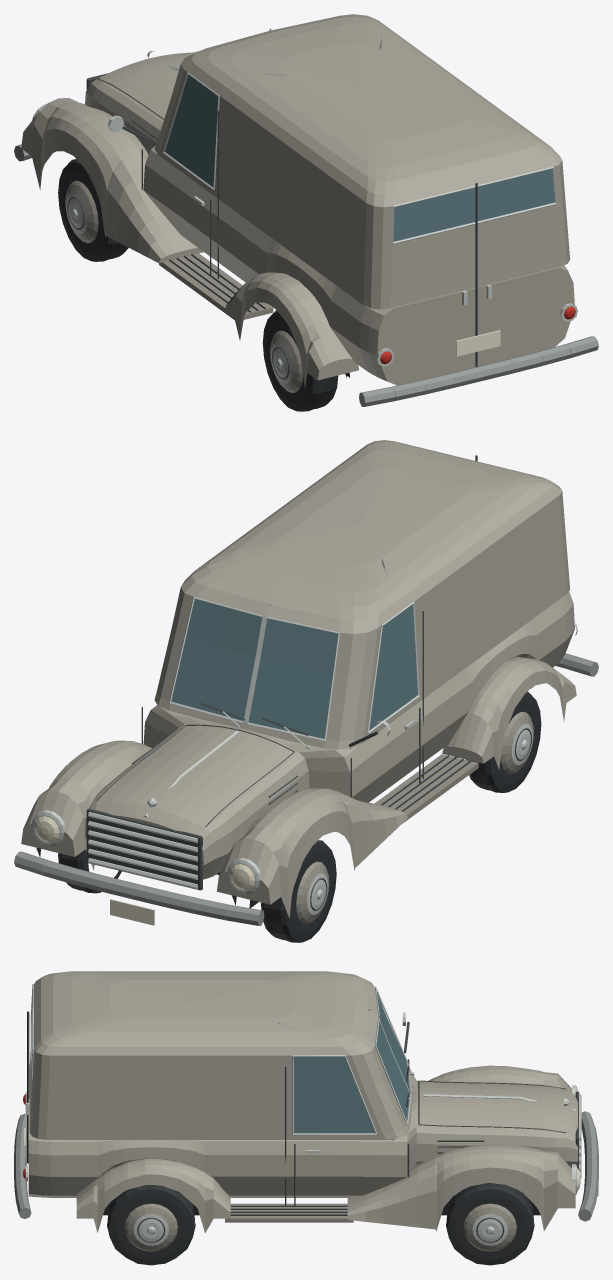
Rendered from 15_van_51.glb.
3 views of the same model, one above another, from view 1: azimuth 30°, elevation 25°; view 2: azimuth 150°, elevation 25°; view 3: azimuth 270°, elevation 25° (orthographic). The views are drawn at different scales.
Parts seen in each view (by area): view 1: Body, Exterior_Details, Wheel_RL, Wheel_FL, Fine_Details; view 2: Body, Exterior_Details, Wheel_FL, Fine_Details, Wheel_RL; view 3: Body, Wheel_FR, Wheel_RR, Exterior_Details, Fine_Details.
Boxes of the visible parts, x1=… form: Body: x1=21, y1=14, x2=576, y2=387; Exterior_Details: x1=14, y1=51, x2=598, y2=406; Wheel_RL: x1=262, y1=310, x2=338, y2=411; Wheel_FL: x1=58, y1=159, x2=128, y2=261; Fine_Details: x1=27, y1=50, x2=556, y2=378; Body: x1=21, y1=440, x2=576, y2=918; Exterior_Details: x1=14, y1=455, x2=598, y2=925; Wheel_FL: x1=261, y1=840, x2=336, y2=942; Fine_Details: x1=36, y1=577, x2=533, y2=905; Wheel_RL: x1=466, y1=691, x2=541, y2=792; Body: x1=28, y1=971, x2=577, y2=1233; Wheel_FR: x1=446, y1=1183, x2=534, y2=1265; Wheel_RR: x1=107, y1=1185, x2=195, y2=1265; Exterior_Details: x1=14, y1=1011, x2=598, y2=1221; Fine_Details: x1=30, y1=984, x2=571, y2=1215.
Bounding box in the file's own units: 2.21 × 2.11 × 5.
